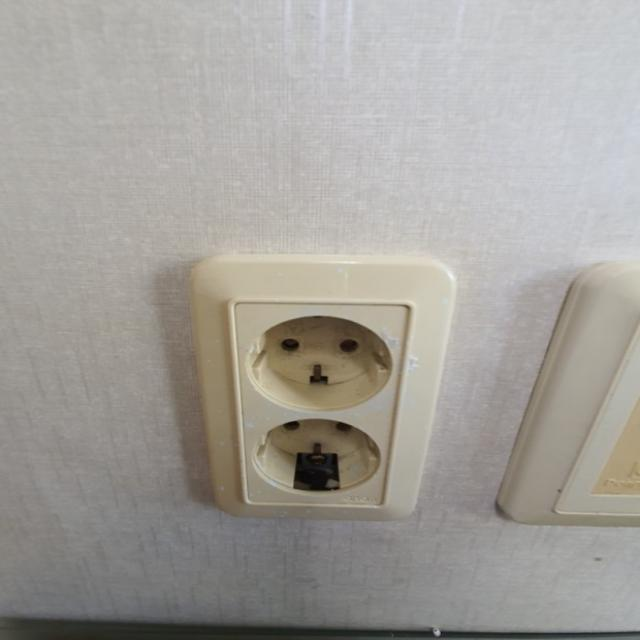typeb: (152, 231, 475, 555)
